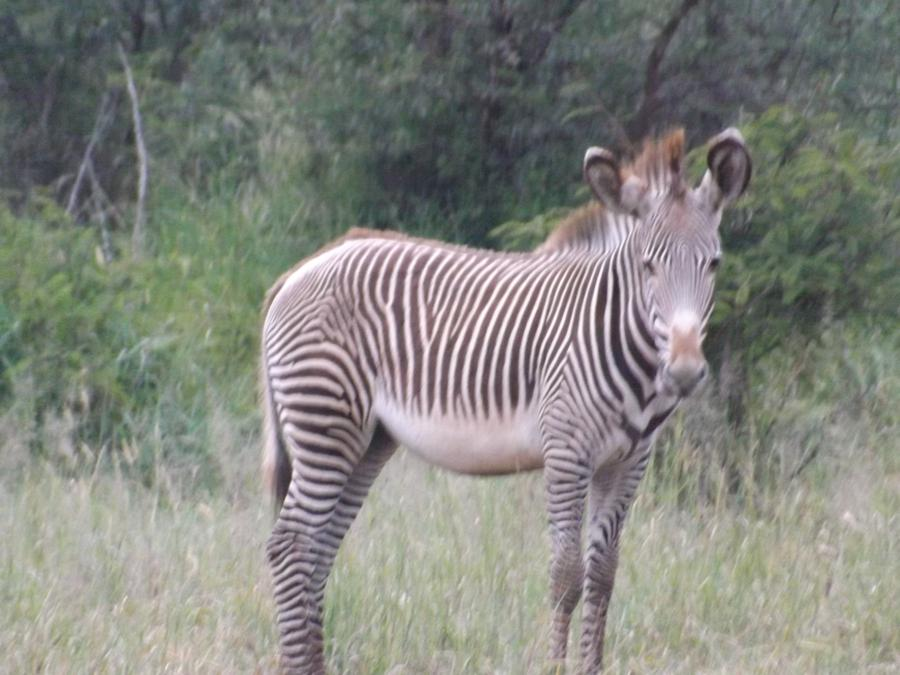zebra_grevys: (268, 232, 604, 467)
